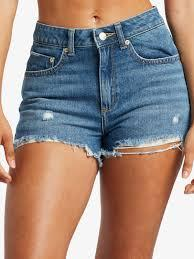short: (12, 19, 192, 156)
